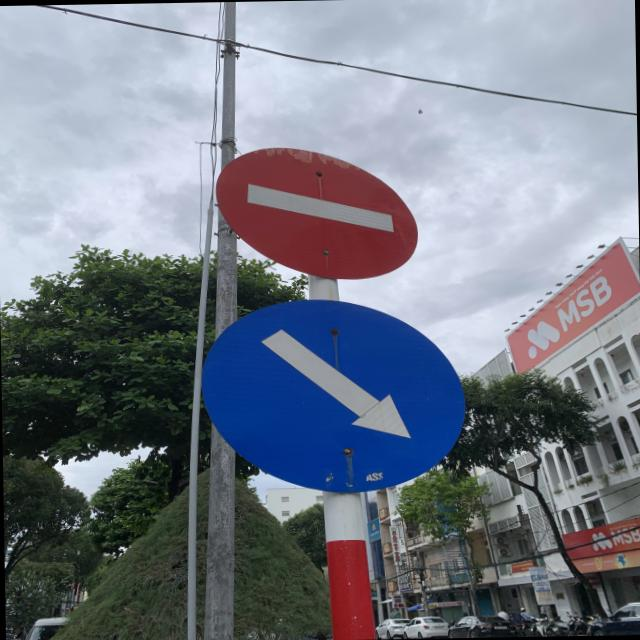Cam_Di_Nguoc_Chieu: (210, 141, 419, 281)
Chi_Huong_Di_Phai: (206, 290, 474, 497)
